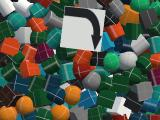Right: (60, 6, 106, 52)
